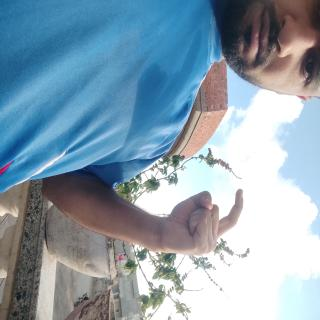RAA: (136, 94, 193, 226)
